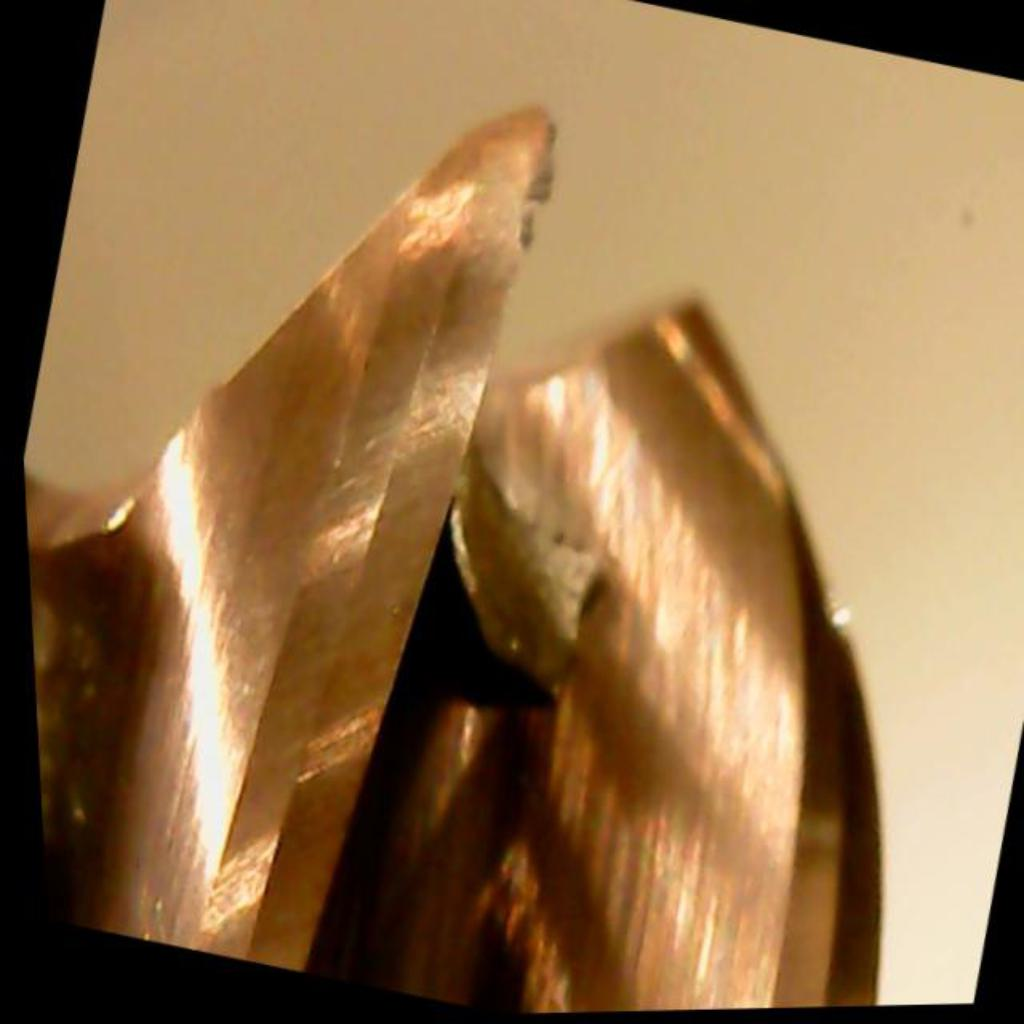Tool-wear-class-1: (293, 71, 599, 589)
